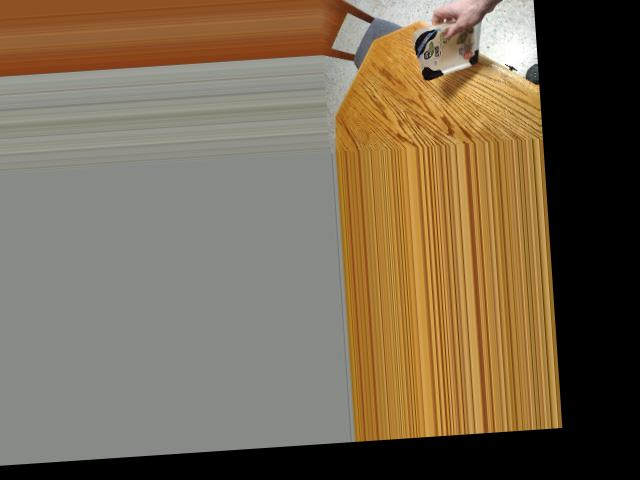cheese: (408, 20, 492, 76)
